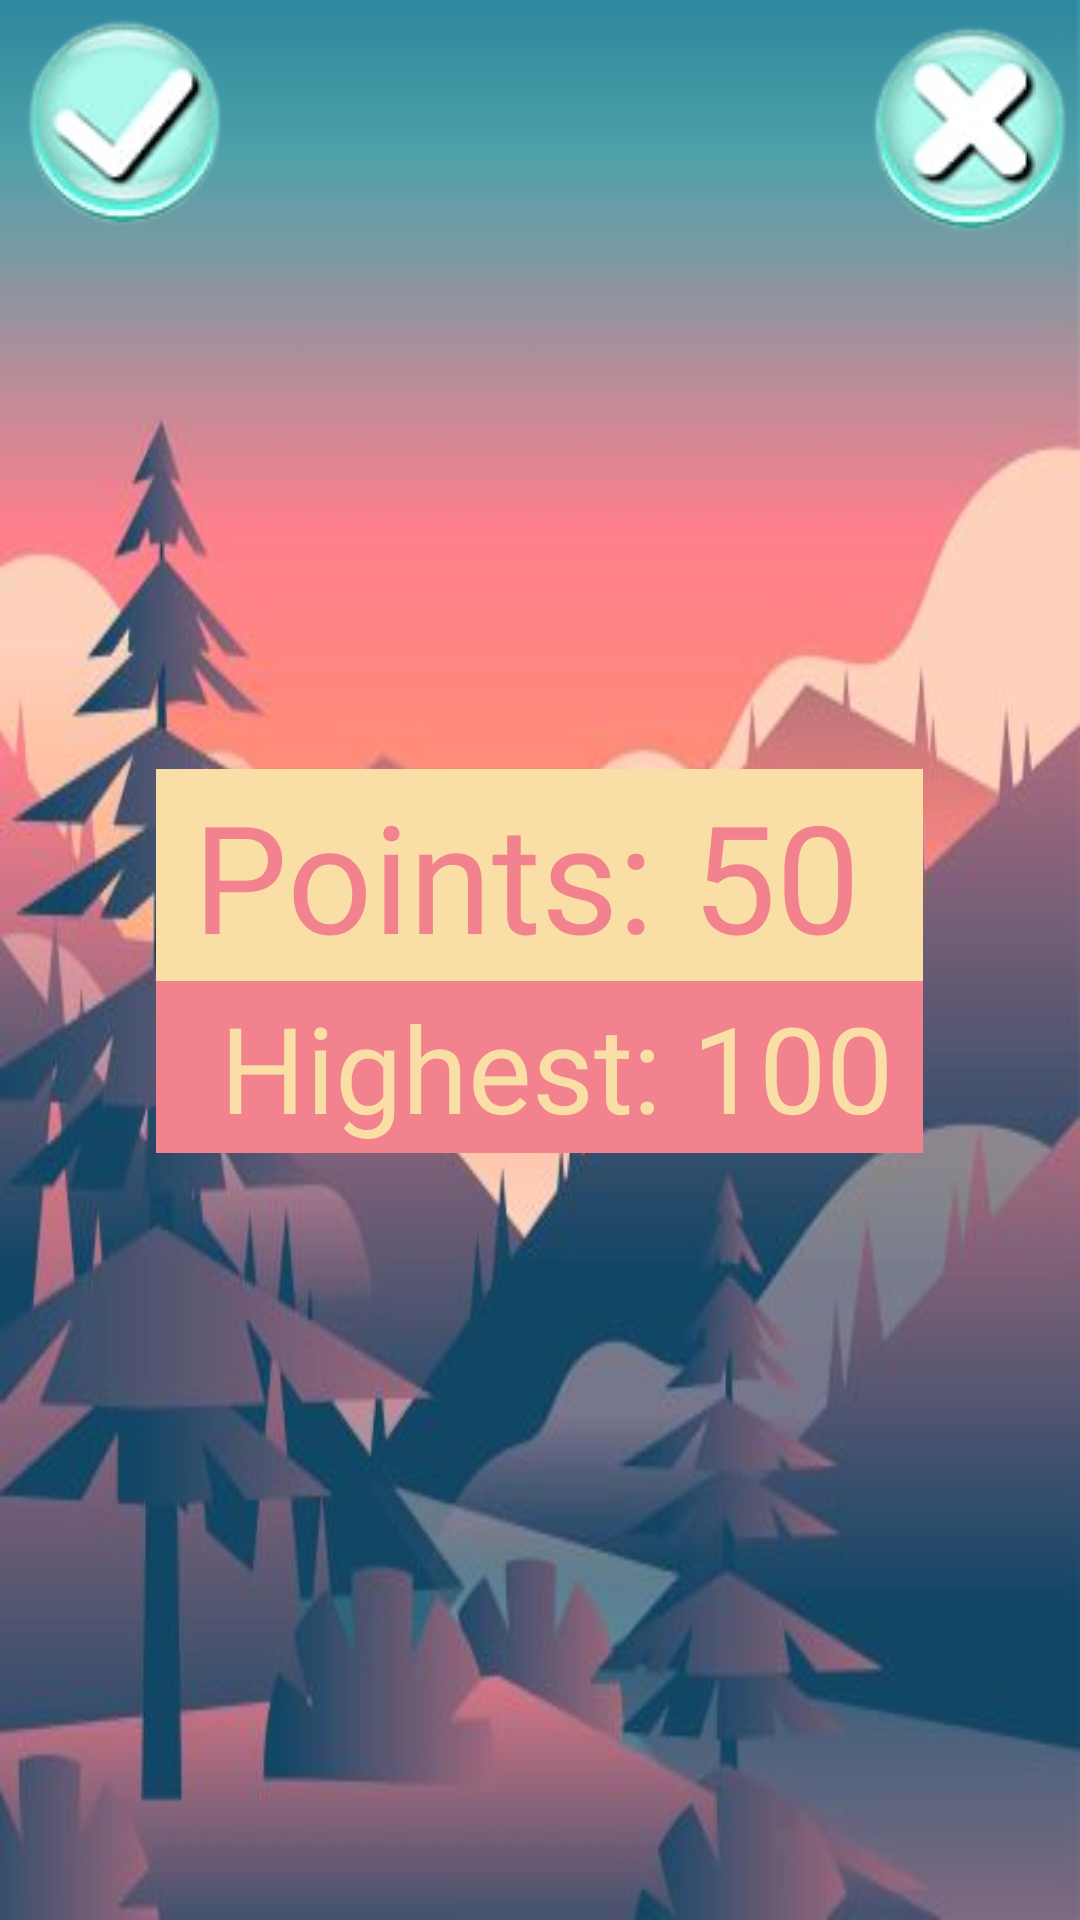

Point at icon controls on the screen. Image size 1080 x 1920, points as (x=x, y=y).
exit: (x=972, y=121)
okay: (x=126, y=111)
